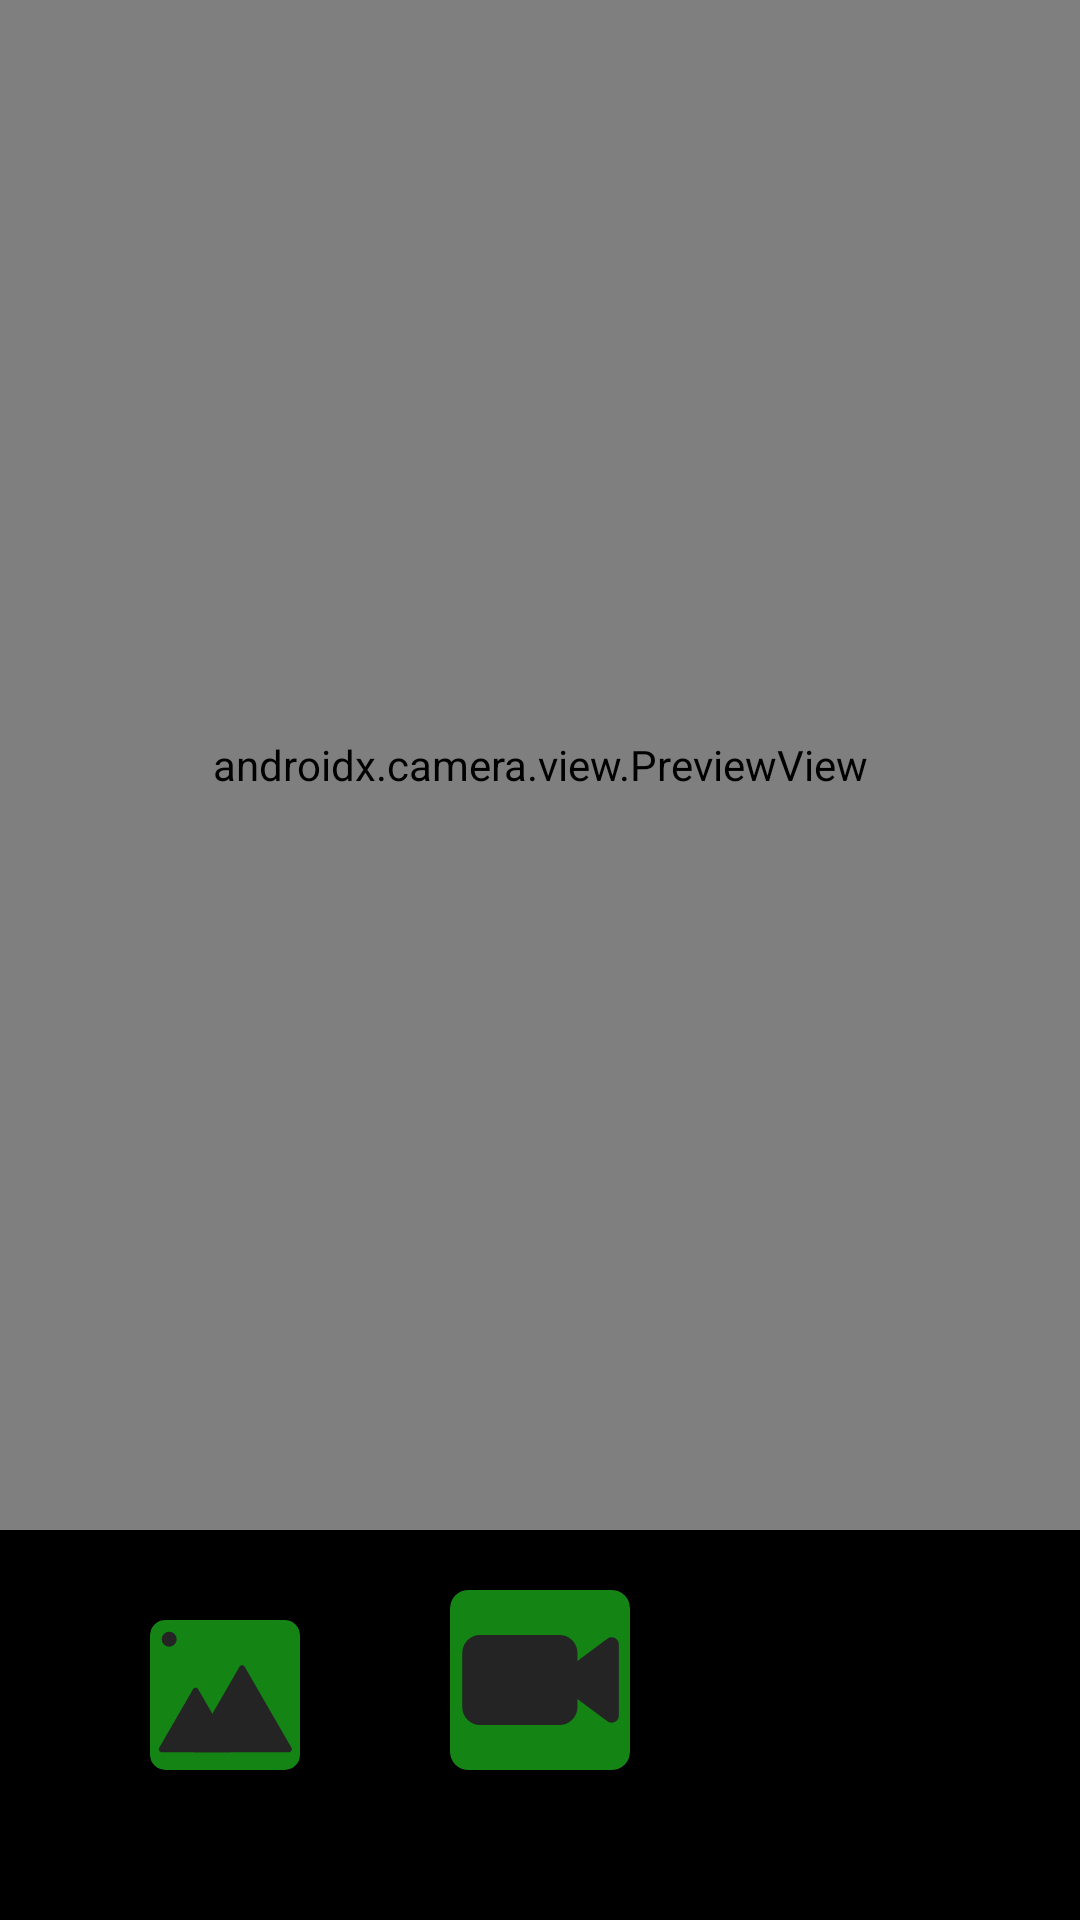

Where to tap for icons on this 1080px x 1920px app screen, as [x,y]:
video: [540,1680]
